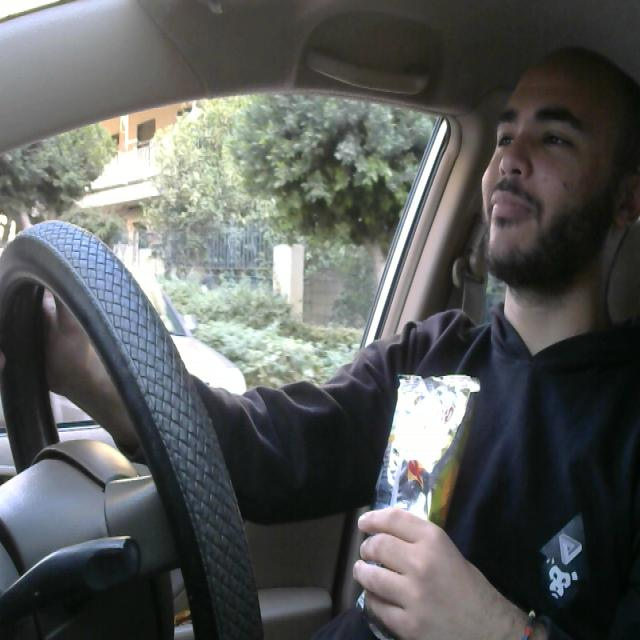eating: (350, 368, 482, 640)
